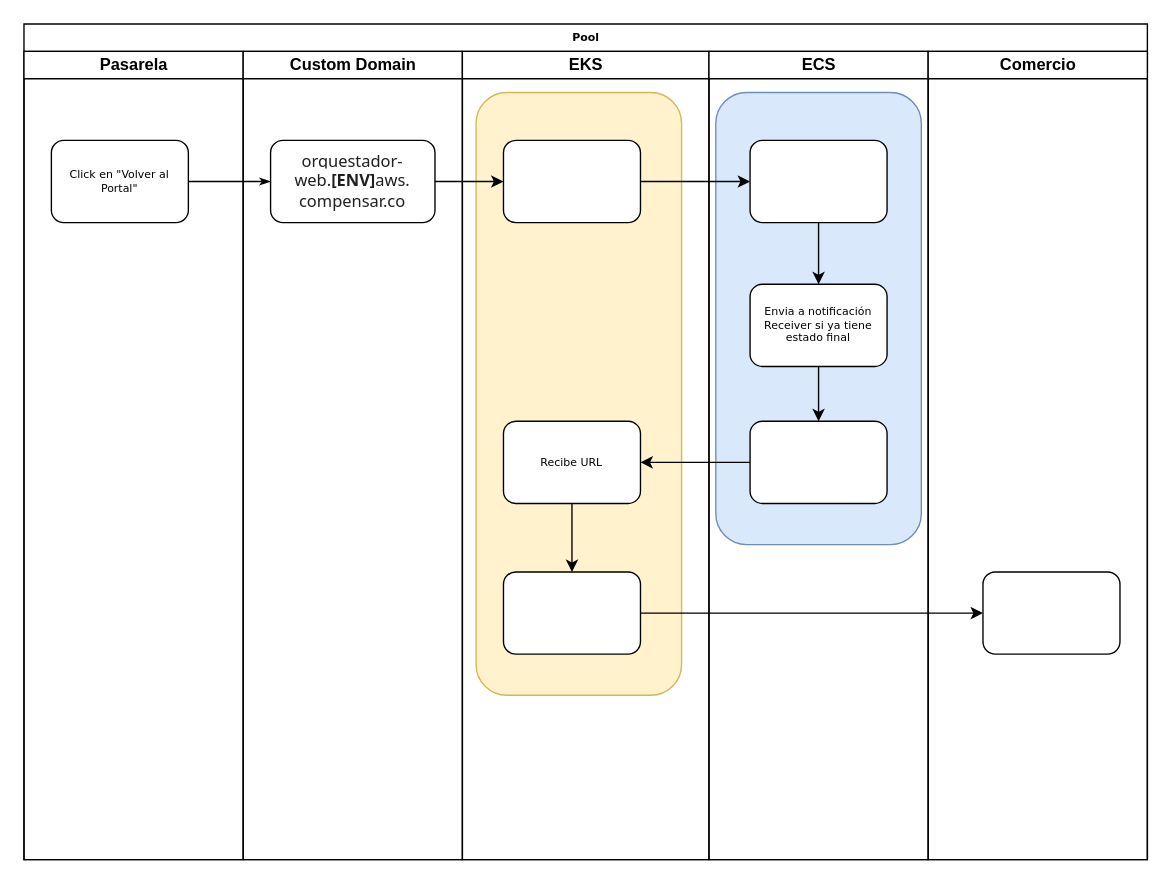
Image size: 1171x884. Some labels were removed from this diagram. Here are the shapes that lost their labels. From the top down, the centre of each, then its label:
At [571,181]: "Pag Intermedia".
At [818,181]: "State".
At [818,461]: "Retorna Pag Intermedia".
At [571,612]: "Redirecciona a Página Intermedia".
At [1051,612]: "Muestra Estado Transacción".
